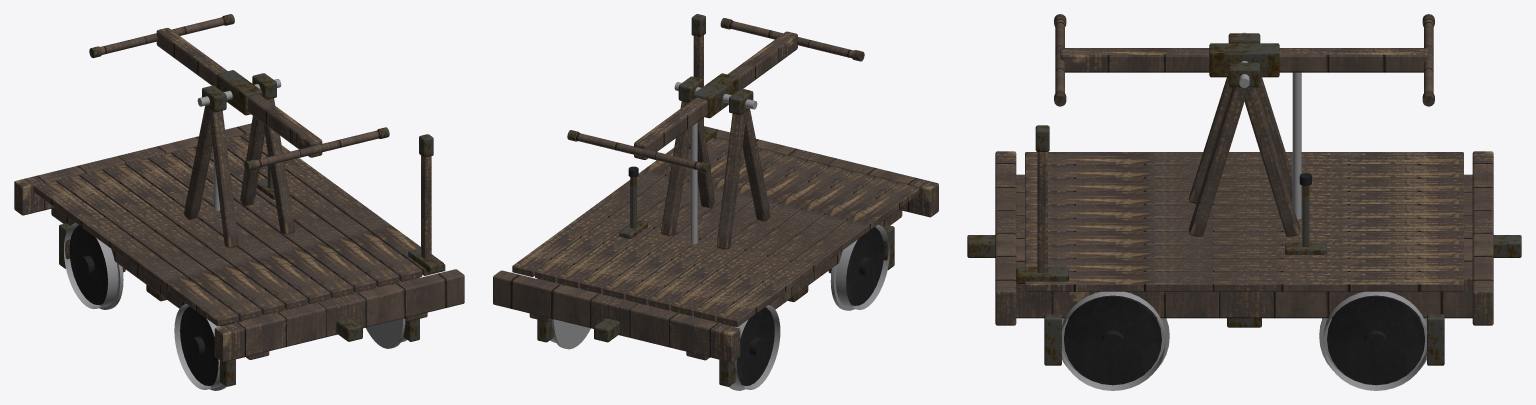
The model's file is handcar.glb.
The picture shows the model from 3 angles, left to right: view 1: azimuth 30°, elevation 25°; view 2: azimuth 150°, elevation 25°; view 3: azimuth 270°, elevation 25°; orthographic projection. The views are drawn at different scales.
Parts seen in each view (by area): view 1: Body, PumpBeam, Wheel_FL, Wheel_RL, BrakeLever, Wheel_RR; view 2: Body, PumpBeam, Wheel_RL, Wheel_FL, PumpRod, Wheel_FR, BrakeLever, DirLever; view 3: Body, PumpBeam, Wheel_FR, Wheel_RR, BrakeLever, PumpRod, DirLever.
Boxes of the visible parts, box(x1,y1,x2,y2) form: Body: box(14, 73, 464, 386); PumpBeam: box(89, 14, 389, 171); Wheel_FL: box(64, 223, 123, 309); Wheel_RL: box(174, 304, 226, 390); BrakeLever: box(419, 134, 433, 258); Wheel_RR: box(366, 318, 406, 348); Body: box(493, 76, 938, 386); PumpBeam: box(567, 18, 864, 173); Wheel_RL: box(830, 224, 889, 310); Wheel_FL: box(729, 305, 780, 390); PumpRod: box(690, 122, 697, 244); Wheel_FR: box(550, 319, 590, 349); BrakeLever: box(691, 14, 705, 125); DirLever: box(628, 166, 638, 228); Body: box(967, 32, 1521, 365); PumpBeam: box(1054, 14, 1434, 106); Wheel_FR: box(1319, 291, 1428, 390); Wheel_RR: box(1060, 291, 1169, 390); BrakeLever: box(1035, 125, 1049, 272); PumpRod: box(1292, 72, 1301, 219); DirLever: box(1299, 173, 1311, 246).
Size of the model in its own units: 1.9 by 1.82 by 3.16.
5 materials, 4 textured.
